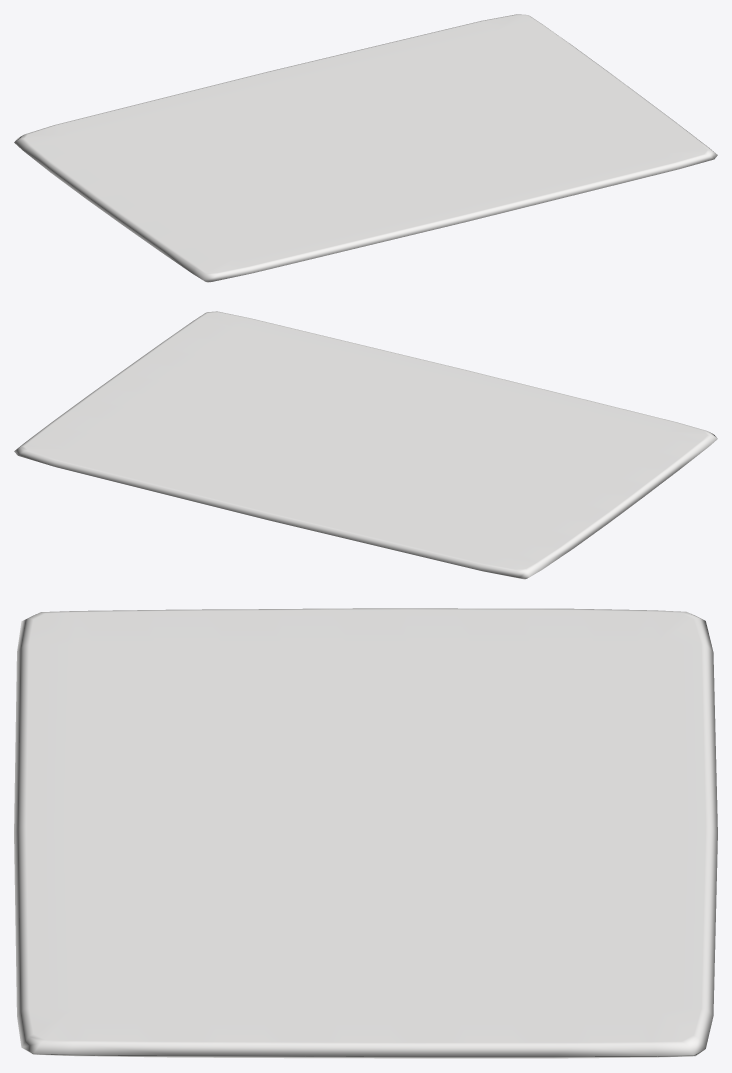
File: P_RugMediumStripes.glb
3 views of the same model, one above another, from view 1: azimuth 30°, elevation 25°; view 2: azimuth 150°, elevation 25°; view 3: azimuth 270°, elevation 25° (orthographic). The views are drawn at different scales.
Visible parts, largest first — view 1: P_RugMediumStripes; view 2: P_RugMediumStripes; view 3: P_RugMediumStripes.
Boxes of the visible parts, x1,y1,x2,y2 form: P_RugMediumStripes: (14, 14, 717, 282); P_RugMediumStripes: (14, 311, 717, 579); P_RugMediumStripes: (14, 608, 717, 1058).
Size of the model in its own units: 2.99 by 0.0405 by 2.
Materials: 1 (1 with a texture image).
